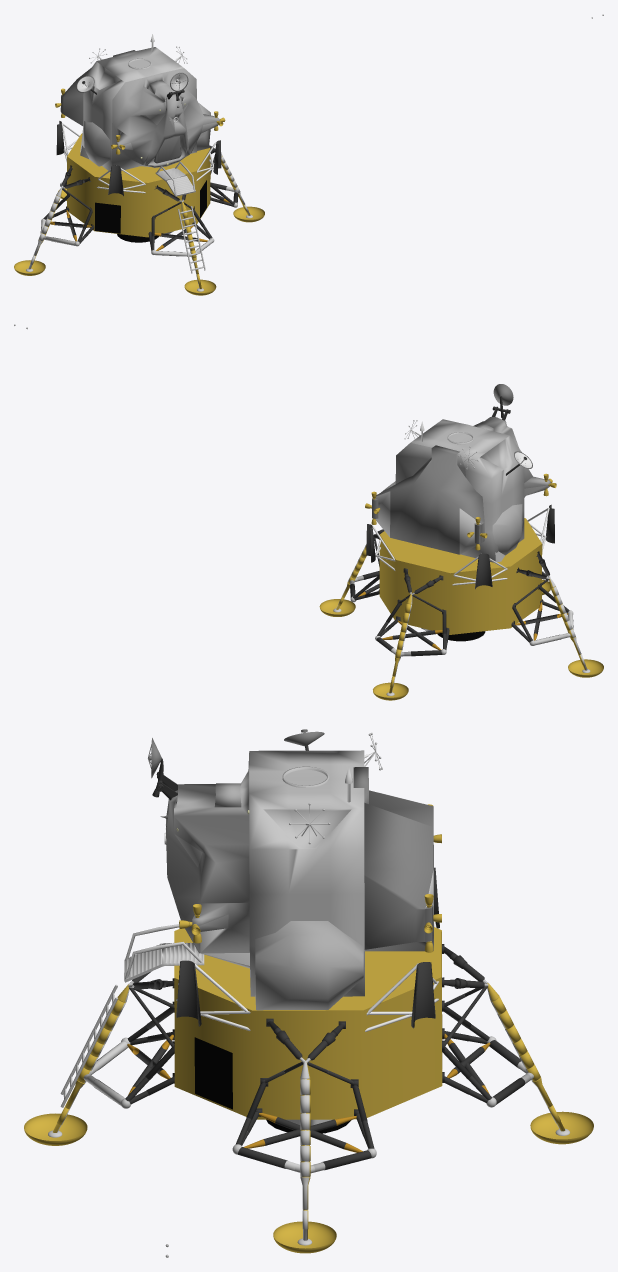
Rendered from modulo1.fbx.
3 renders of one model, top to bottom at view 1: azimuth 30°, elevation 25°; view 2: azimuth 150°, elevation 25°; view 3: azimuth 270°, elevation 25°, orthographic. The views are drawn at different scales.
Parts seen in each view (by area): view 1: polySurfac, pCylinder1, group31_19, pCylinde10, group31_15, pCube2, pPlane1, group31_16, pCube3, pCube27, polySurfa1, group31_g6; view 2: pCylinder1, polySurfac, pCube2, group31_19, pCylinde10, group31_15, group31_16; view 3: polySurfac, pCylinder1, pCube2, pCylinder9, group31_19, group31_15, group31_16, pPlane2, pCube3, group31_g8, group31_g7, group31_g6 (+10 smaller).
Part boxes in pixels (box(x1,y1,x2,y2)): polySurfac: box(80, 47, 219, 171); pCylinder1: box(67, 133, 210, 237); group31_19: box(14, 188, 264, 295); pCylinde10: box(80, 121, 110, 166); group31_15: box(28, 154, 250, 288); pCube2: box(61, 50, 137, 126); pPlane1: box(95, 202, 120, 233); group31_16: box(31, 155, 249, 288); pCube3: box(155, 168, 195, 196); pCube27: box(154, 136, 181, 163); polySurfa1: box(177, 206, 205, 273); group31_g6: box(43, 189, 238, 256); pCylinder1: box(379, 518, 542, 634); polySurfac: box(395, 417, 550, 562); pCube2: box(375, 445, 484, 554); group31_19: box(319, 579, 603, 700); pCylinde10: box(492, 504, 522, 562); group31_15: box(336, 544, 587, 692); group31_16: box(336, 545, 585, 693); polySurfac: box(166, 750, 364, 996); pCylinder1: box(174, 927, 442, 1119); pCube2: box(353, 767, 433, 951); pCylinder9: box(255, 921, 363, 1010); group31_19: box(24, 1111, 593, 1253); group31_15: box(53, 983, 564, 1240); group31_16: box(53, 986, 564, 1239); pPlane2: box(194, 1037, 232, 1109); pCube3: box(124, 942, 204, 982); group31_g8: box(128, 1033, 489, 1152); group31_g7: box(83, 1072, 533, 1173); group31_g6: box(90, 1040, 527, 1172).
Bounding box in the file's own units: 14.41 × 5.02 × 6.43.
